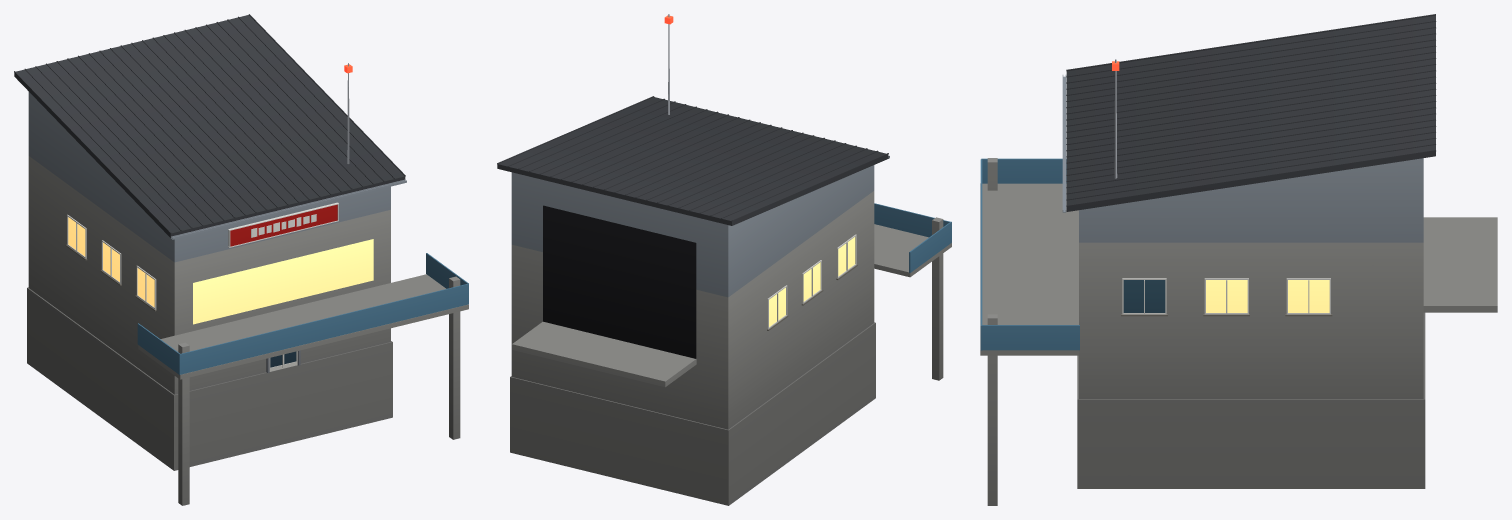
Rendered from CableCar_Station_High.fbx.
3 renders of one model, left to right at view 1: azimuth 30°, elevation 25°; view 2: azimuth 150°, elevation 25°; view 3: azimuth 270°, elevation 25°, orthographic. The views are drawn at different scales.
Parts seen in each view (by area): view 1: CableCar_Station_High_LOD0; view 2: CableCar_Station_High_LOD0; view 3: CableCar_Station_High_LOD0.
Part boxes in pixels (<box>): CableCar_Station_High_LOD0: <box>14,14,468,505</box>; CableCar_Station_High_LOD0: <box>497,14,951,505</box>; CableCar_Station_High_LOD0: <box>980,14,1497,505</box>.
Size of what is drawn, in the model's own units: 16.04 by 18.5 by 21.
Materials: 1 (1 with a texture image).
